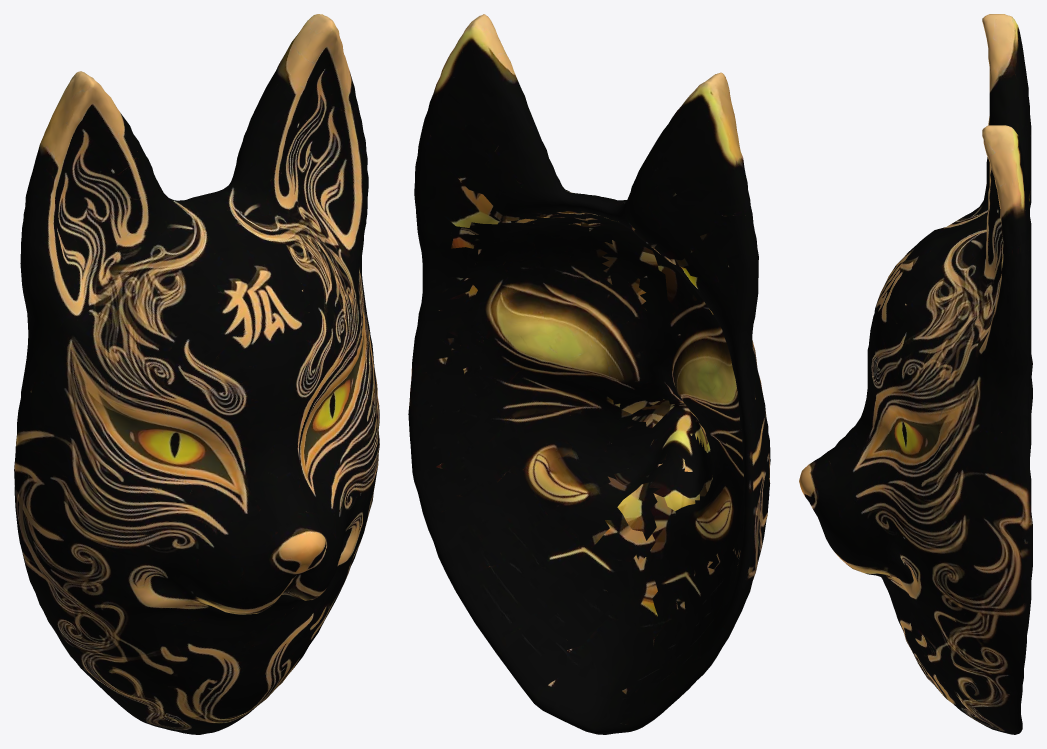
The model's file is oni.glb.
3 views of the same model, side by side, from view 1: azimuth 30°, elevation 25°; view 2: azimuth 150°, elevation 25°; view 3: azimuth 270°, elevation 25° (orthographic). The views are drawn at different scales.
Visible parts, largest first — view 1: Object_5; view 2: Object_5; view 3: Object_5.
Part boxes in pixels (x1=…): Object_5: x1=14, y1=14, x2=379, y2=734; Object_5: x1=408, y1=14, x2=770, y2=734; Object_5: x1=799, y1=14, x2=1032, y2=734.
Bounding box in the file's own units: 1.01 × 1.91 × 0.6146.
1 material, 1 textured.
